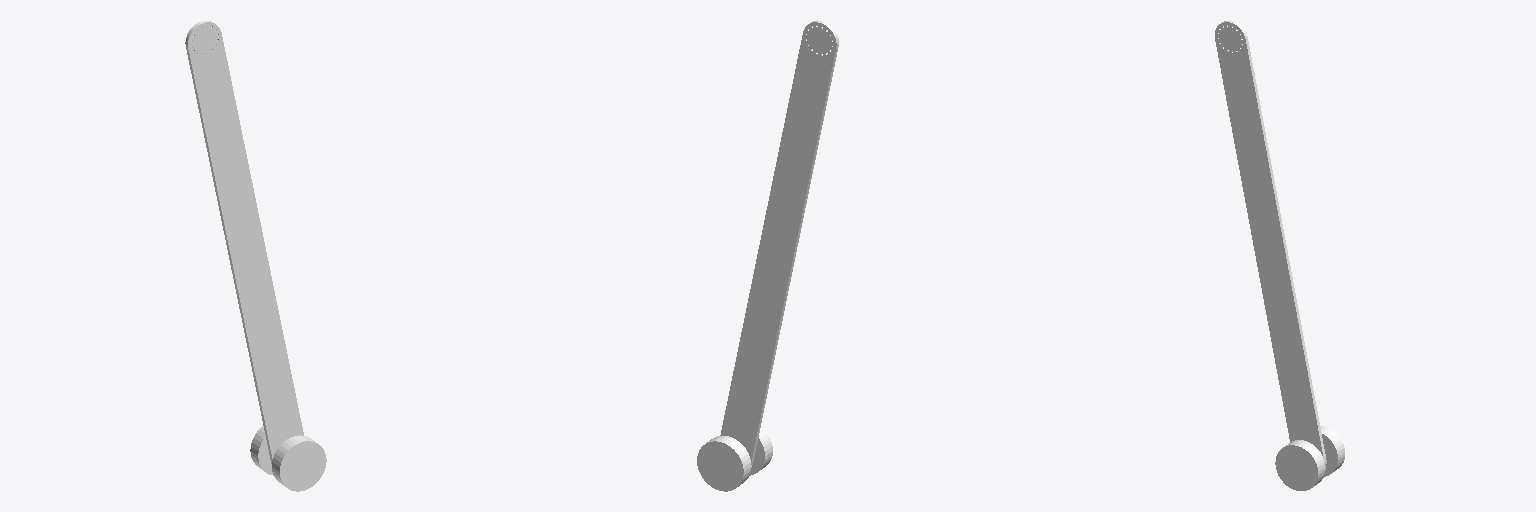
URDF robot description (lm2):
<?xml version="1.0" encoding="utf-8"?>
<!-- This URDF was automatically created by SolidWorks to URDF Exporter! Originally created by [author] ([email redacted]) 
     Commit Version: 1.6.0-4-g7f85cfe  Build Version: 1.6.7995.38578
     For more information, please see http://wiki.ros.org/sw_urdf_exporter -->
<robot
  name="lm2">
  <link
    name="base_link">
    <inertial>
      <origin
        xyz="1.1615E-05 -0.028103 -0.09801"
        rpy="0 0 0" />
      <mass
        value="0.68409" />
      <inertia
        ixx="0.0015536"
        ixy="2.2725E-07"
        ixz="2.6547E-06"
        iyy="0.0012184"
        iyz="1.2457E-07"
        izz="0.0011556" />
    </inertial>
    <visual>
      <origin
        xyz="0 0 0"
        rpy="0 0 0" />
      <geometry>
        <mesh
          filename="package://lm2/meshes/base_link.STL" />
      </geometry>
      <material
        name="">
        <color
          rgba="1 1 1 1" />
      </material>
    </visual>
    <collision>
      <origin
        xyz="0 0 0"
        rpy="0 0 0" />
      <geometry>
        <mesh
          filename="package://lm2/meshes/base_link.STL" />
      </geometry>
    </collision>
  </link>
  <link
    name="Link1">
    <inertial>
      <origin
        xyz="5.9674E-15 0.71375 -0.0039257"
        rpy="0 0 0" />
      <mass
        value="1.4782" />
      <inertia
        ixx="0.07995"
        ixy="-2.6427E-17"
        ixz="8.0462E-20"
        iyy="0.0021232"
        iyz="-1.9811E-18"
        izz="0.07964" />
    </inertial>
    <visual>
      <origin
        xyz="0 0 0"
        rpy="0 0 0" />
      <geometry>
        <mesh
          filename="package://lm2/meshes/Link1.STL" />
      </geometry>
      <material
        name="">
        <color
          rgba="1 1 1 1" />
      </material>
    </visual>
    <collision>
      <origin
        xyz="0 0 0"
        rpy="0 0 0" />
      <geometry>
        <mesh
          filename="package://lm2/meshes/Link1.STL" />
      </geometry>
    </collision>
  </link>
  <joint
    name="Joint1"
    type="revolute">
    <origin
      xyz="0 0.017 -0.15"
      rpy="-1.5708 -0.20153 0" />
    <parent
      link="base_link" />
    <child
      link="Link1" />
    <axis
      xyz="0 0 -1" />
    <limit
      lower="0"
      upper="0"
      effort="0"
      velocity="0" />
  </joint>
</robot>

--- Render facts (derived) ---
Views: 3 orthographic renders of the robot side by side, from view 1: azimuth 30°, elevation 25°; view 2: azimuth 150°, elevation 25°; view 3: azimuth 330°, elevation 25°.
Robot: lm2 — 2 links, 1 joints (1 revolute); root link base_link; default pose: every joint at zero.
Links seen in each view (by area): view 1: Link1; view 2: Link1; view 3: Link1.
Link boxes in pixels (x1,y1,x2,y2): Link1: (185, 21, 326, 491); Link1: (697, 20, 838, 491); Link1: (1215, 20, 1344, 490).
Size in the robot's own frame: 0.2951 by 0.119 by 1.07 metres.
1 mesh visuals loaded from 2 distinct referenced files (1 binary STL); not drawn: 1 (reference not matched to a file when rendering).